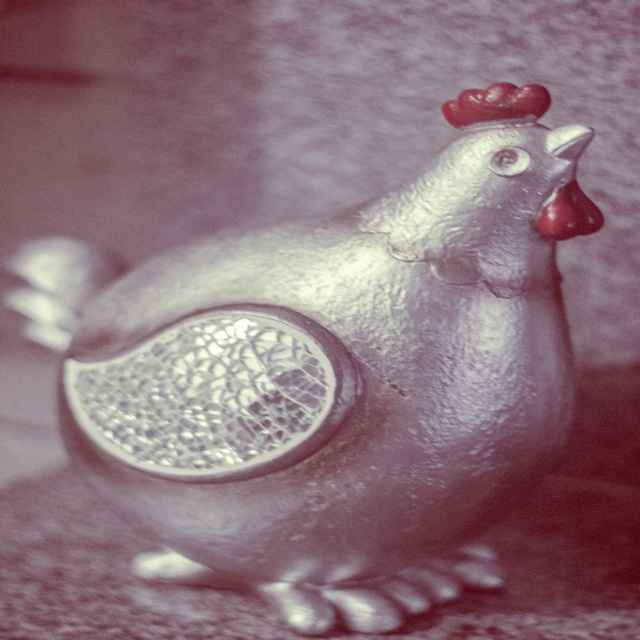Chicken: (53, 65, 629, 606)
